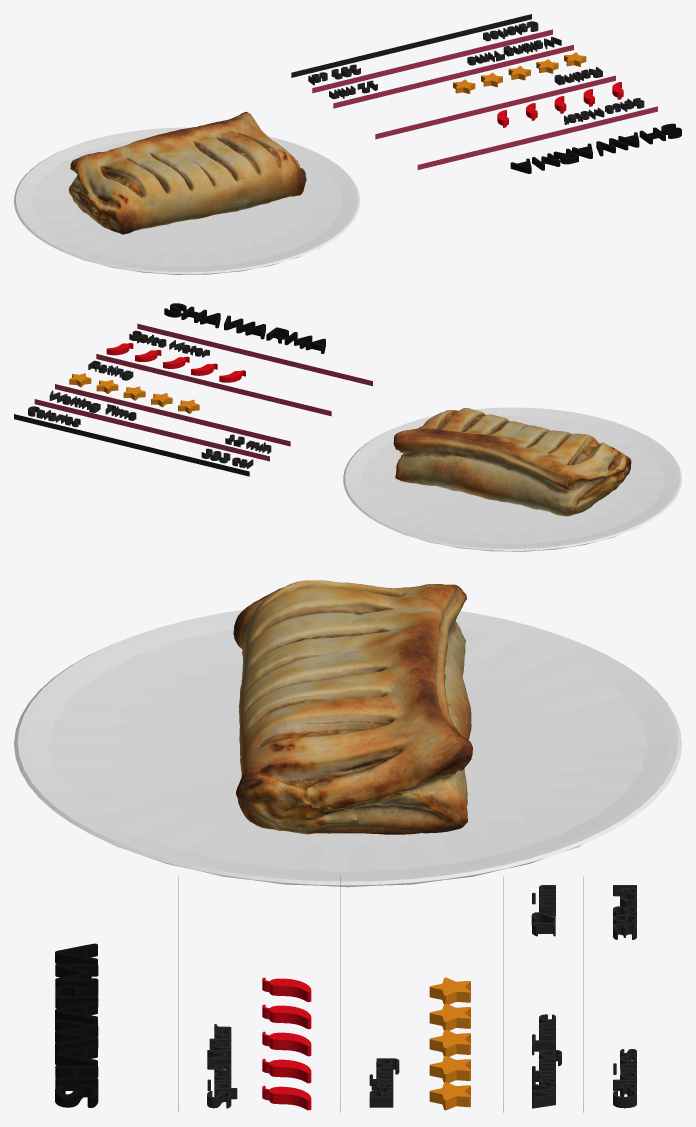
The model's file is shawarma.glb.
The picture shows the model from 3 angles, top to bottom: view 1: azimuth 30°, elevation 25°; view 2: azimuth 150°, elevation 25°; view 3: azimuth 270°, elevation 25°; orthographic projection. The views are drawn at different scales.
Visible parts, largest first — view 1: Cylinder, AppleStrudel.obj, Curve.057, Curve.002, Curve.017, Curve.022, Curve.067; view 2: Cylinder, AppleStrudel.obj, Curve.057, Curve.002, Curve.017, Curve.022, Curve.067; view 3: Cylinder, AppleStrudel.obj, Curve.002, Curve.017, Curve.022, Curve.067, Curve.057.
Part boxes in pixels (x1,y1,x2,y2): Cylinder: [14, 127, 359, 274]; AppleStrudel.obj: [68, 112, 306, 234]; Curve.057: [291, 14, 657, 169]; Curve.002: [308, 21, 644, 124]; Curve.017: [510, 123, 681, 173]; Curve.022: [453, 52, 586, 93]; Curve.067: [497, 82, 623, 127]; Cylinder: [343, 407, 681, 551]; AppleStrudel.obj: [393, 408, 631, 516]; Curve.057: [14, 323, 372, 476]; Curve.002: [28, 330, 271, 468]; Curve.017: [164, 303, 325, 353]; Curve.022: [69, 373, 199, 413]; Curve.067: [106, 343, 245, 382]; Cylinder: [14, 610, 681, 887]; AppleStrudel.obj: [233, 580, 472, 834]; Curve.002: [207, 885, 636, 1108]; Curve.017: [55, 943, 98, 1107]; Curve.022: [429, 977, 470, 1110]; Curve.067: [262, 977, 311, 1110]; Curve.057: [178, 876, 583, 1112].
Bounding box in the file's own units: 0.707 × 0.0708 × 0.3673.
8 materials, 1 textured.
